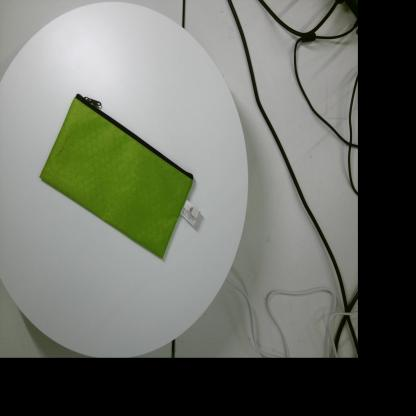Stationery: (39, 93, 201, 259)
